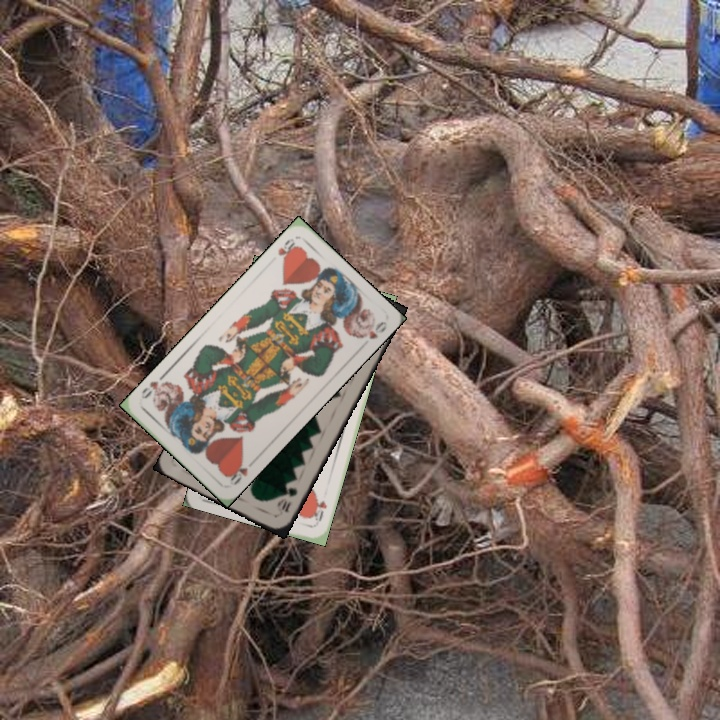G10: (277, 483, 300, 518)
HO: (224, 455, 258, 488), (273, 234, 300, 266), (308, 495, 329, 524)
